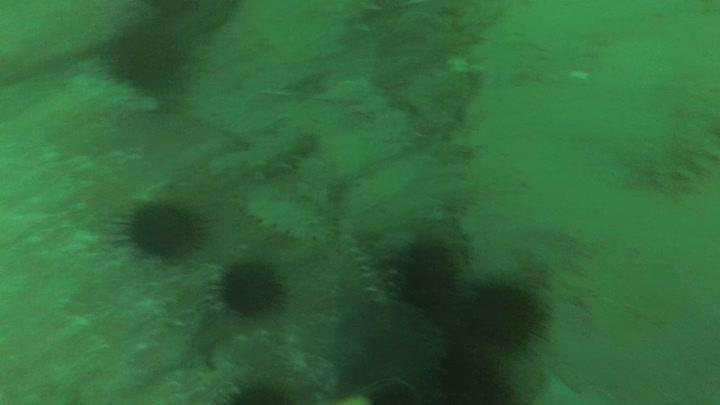urchin: (115, 190, 206, 266), (464, 275, 542, 359), (391, 240, 461, 313), (206, 253, 274, 319)
